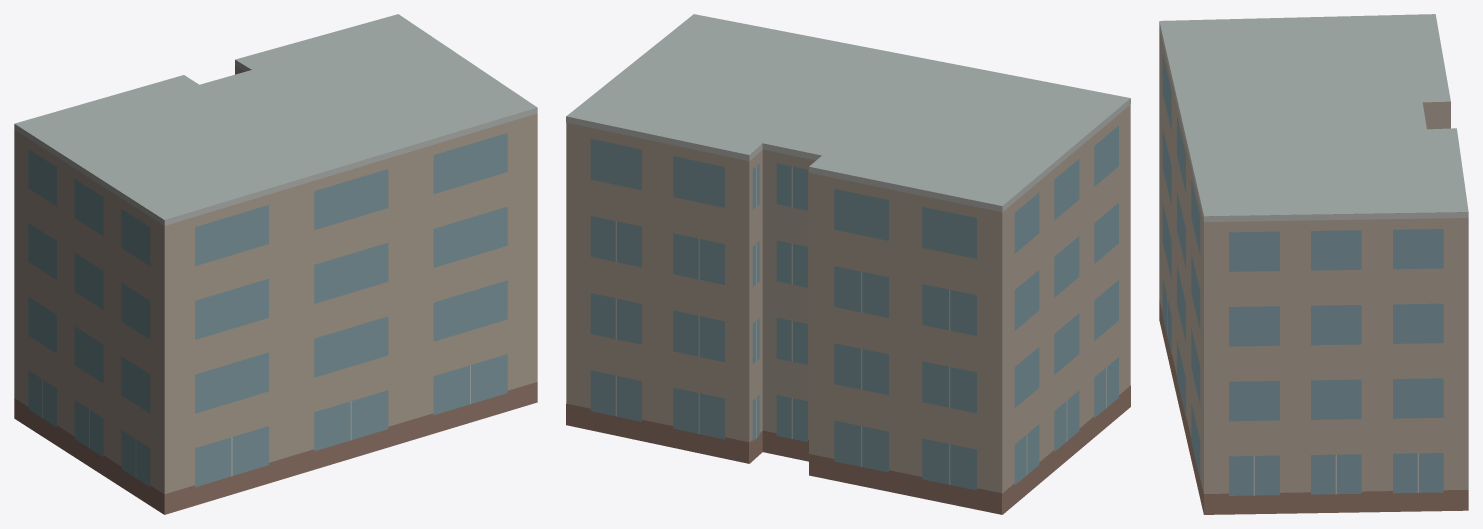
The model's file is survey-upis-33044267.glb.
3 renders of one model, left to right at view 1: azimuth 30°, elevation 25°; view 2: azimuth 150°, elevation 25°; view 3: azimuth 270°, elevation 25°, orthographic. The views are drawn at different scales.
Parts seen in each view (by area): view 1: survey-upis-33044267.tmp; view 2: survey-upis-33044267.tmp; view 3: survey-upis-33044267.tmp.
Boxes of the visible parts, x1,y1,x2,y2 form: survey-upis-33044267.tmp: (14,14,537,514); survey-upis-33044267.tmp: (566,14,1130,514); survey-upis-33044267.tmp: (1159,14,1468,514).
Bounding box in the file's own units: 17.72 × 12.2 × 11.46.
